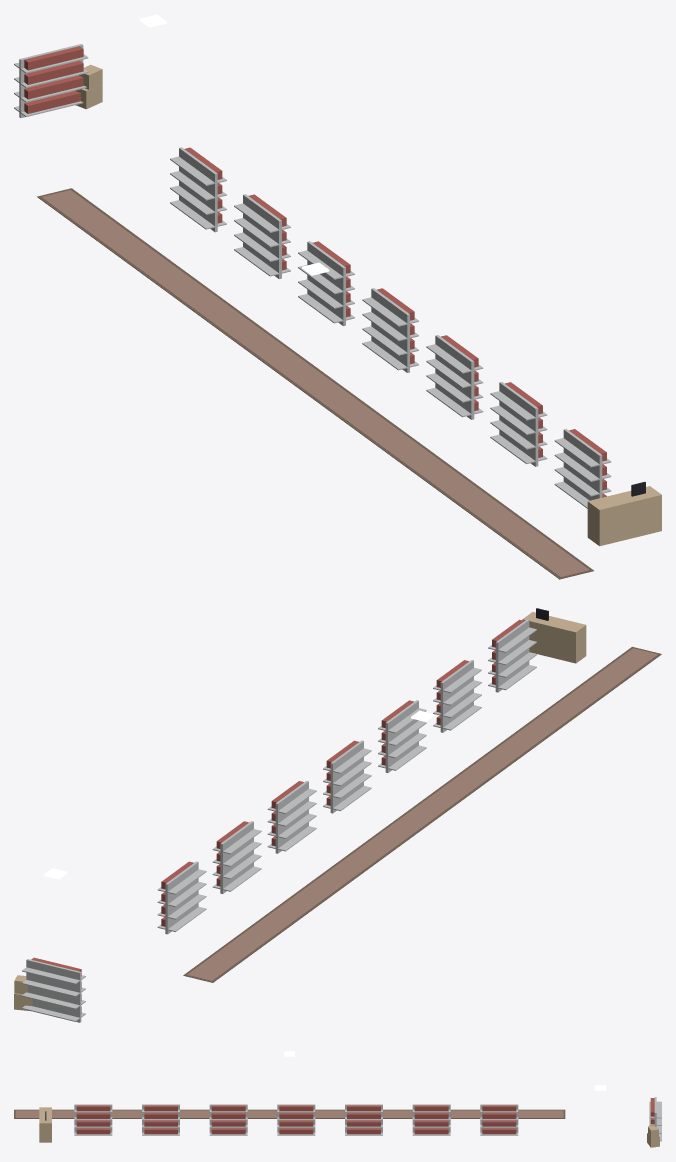
The model's file is fine-s0.glb.
3 renders of one model, top to bottom at view 1: azimuth 30°, elevation 25°; view 2: azimuth 150°, elevation 25°; view 3: azimuth 270°, elevation 25°, orthographic. The views are drawn at different scales.
Parts seen in each view (by area): view 1: soft-s0, shelving.000, shop-counter.000, shelf.005, shelf.004, shelf.000, shelf.001, shelf.003, shelf.002, shelf.006, cardboard-box.000; view 2: soft-s0, shelving.000, shelf.001, shelf.002, shelf.005, shelf.000, shelf.006, shelf.003, shop-counter.000, shelf.004; view 3: soft-s0, shelf.000, shelf.001, shelf.003, shelf.004, shelf.006, shelf.002, shelf.005, shop-counter.000, shelving.000, cardboard-box.000.
Boxes of the visible parts, left/top/right/bottom form: soft-s0: left=37, top=188, right=593, bottom=579; shelving.000: left=14, top=44, right=88, bottom=117; shop-counter.000: left=587, top=482, right=661, bottom=546; shelf.005: left=490, top=382, right=547, bottom=466; shelf.004: left=426, top=335, right=483, bottom=419; shelf.000: left=170, top=147, right=226, bottom=232; shelf.001: left=234, top=194, right=290, bottom=279; shelf.003: left=362, top=288, right=418, bottom=372; shelf.002: left=298, top=241, right=354, bottom=325; shelf.006: left=554, top=429, right=611, bottom=508; cardboard-box.000: left=75, top=64, right=102, bottom=109; soft-s0: left=183, top=646, right=661, bottom=982; shelving.000: left=22, top=957, right=85, bottom=1022; shelf.001: left=212, top=821, right=261, bottom=893; shelf.002: left=267, top=780, right=316, bottom=853; shelf.005: left=433, top=660, right=481, bottom=732; shelf.000: left=157, top=861, right=206, bottom=934; shelf.006: left=488, top=619, right=536, bottom=692; shelf.003: left=323, top=740, right=371, bottom=813; shop-counter.000: left=522, top=608, right=586, bottom=663; shelf.004: left=378, top=700, right=426, bottom=772; soft-s0: left=14, top=1109, right=565, bottom=1118; shelf.000: left=480, top=1104, right=518, bottom=1135; shelf.001: left=412, top=1104, right=450, bottom=1135; shelf.003: left=277, top=1104, right=315, bottom=1135; shelf.004: left=209, top=1104, right=247, bottom=1135; shelf.006: left=74, top=1104, right=112, bottom=1135; shelf.002: left=345, top=1104, right=382, bottom=1135; shelf.005: left=142, top=1104, right=179, bottom=1135; shop-counter.000: left=39, top=1107, right=51, bottom=1142; shelving.000: left=649, top=1097, right=661, bottom=1141; cardboard-box.000: left=647, top=1126, right=659, bottom=1147.
Bounding box in the file's own units: 4.57 × 3.19 × 30.66.
